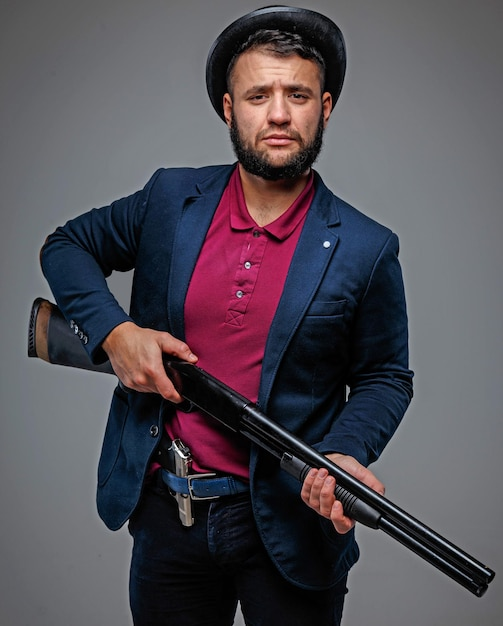gun: (25, 294, 492, 600), (152, 436, 198, 530)
